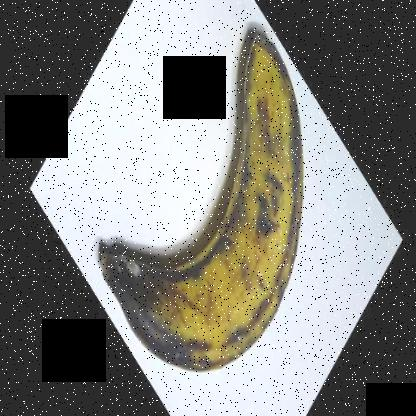overripe: (78, 30, 309, 394)
rotten: (100, 236, 212, 384)
